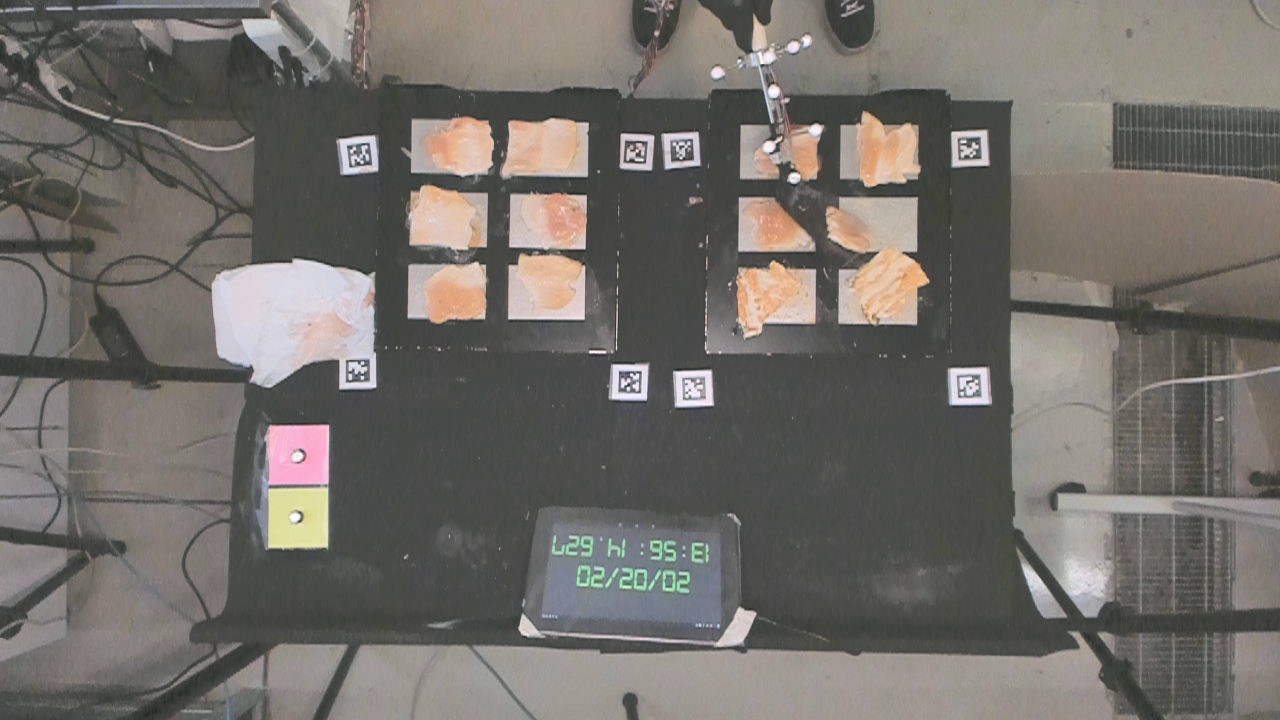chicken: (850, 245, 928, 324), (734, 261, 808, 337), (402, 186, 484, 250), (857, 107, 923, 185), (502, 113, 581, 174), (421, 114, 491, 179), (513, 251, 586, 311), (423, 260, 489, 324), (756, 117, 820, 179), (524, 188, 590, 247), (746, 198, 810, 246), (822, 203, 872, 251)
marker: (268, 426, 329, 485)
